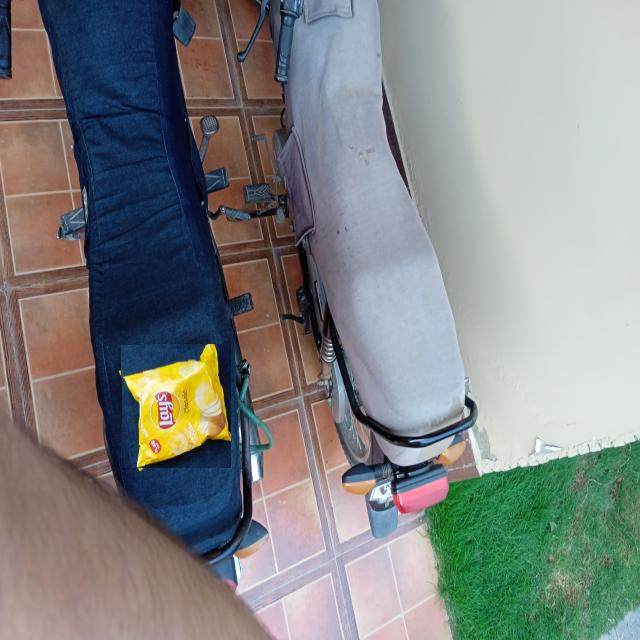Plastic: (120, 344, 231, 468)
